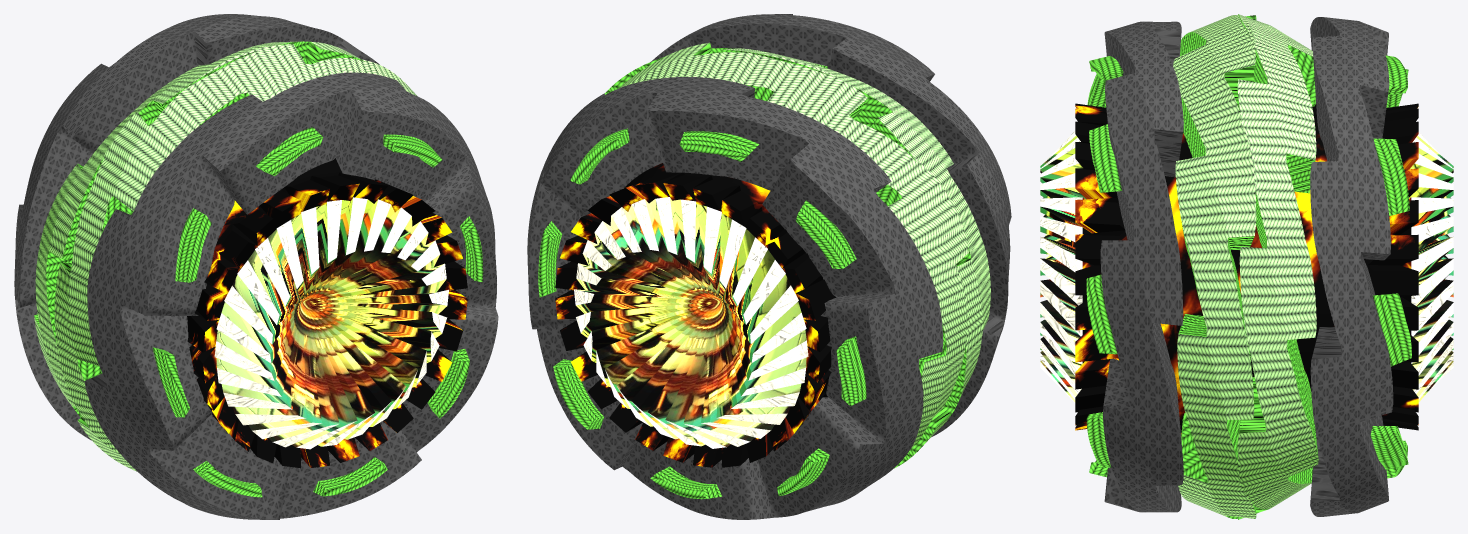
Rendered from RollingBalls_Sci-fi_4_3.glb.
3 renders of one model, left to right at view 1: azimuth 30°, elevation 25°; view 2: azimuth 150°, elevation 25°; view 3: azimuth 270°, elevation 25°, orthographic. The views are drawn at different scales.
Visible parts, largest first — view 1: RollingBalls_Sci-fi_4_3; view 2: RollingBalls_Sci-fi_4_3; view 3: RollingBalls_Sci-fi_4_3.
Boxes of the visible parts, x1,y1,x2,y2 form: RollingBalls_Sci-fi_4_3: (14,14,498,519); RollingBalls_Sci-fi_4_3: (527,14,1011,519); RollingBalls_Sci-fi_4_3: (1040,14,1453,519).
Size of the model in its own units: 1.72 by 1.72 by 1.4.
Materials: 8 (7 with a texture image).
